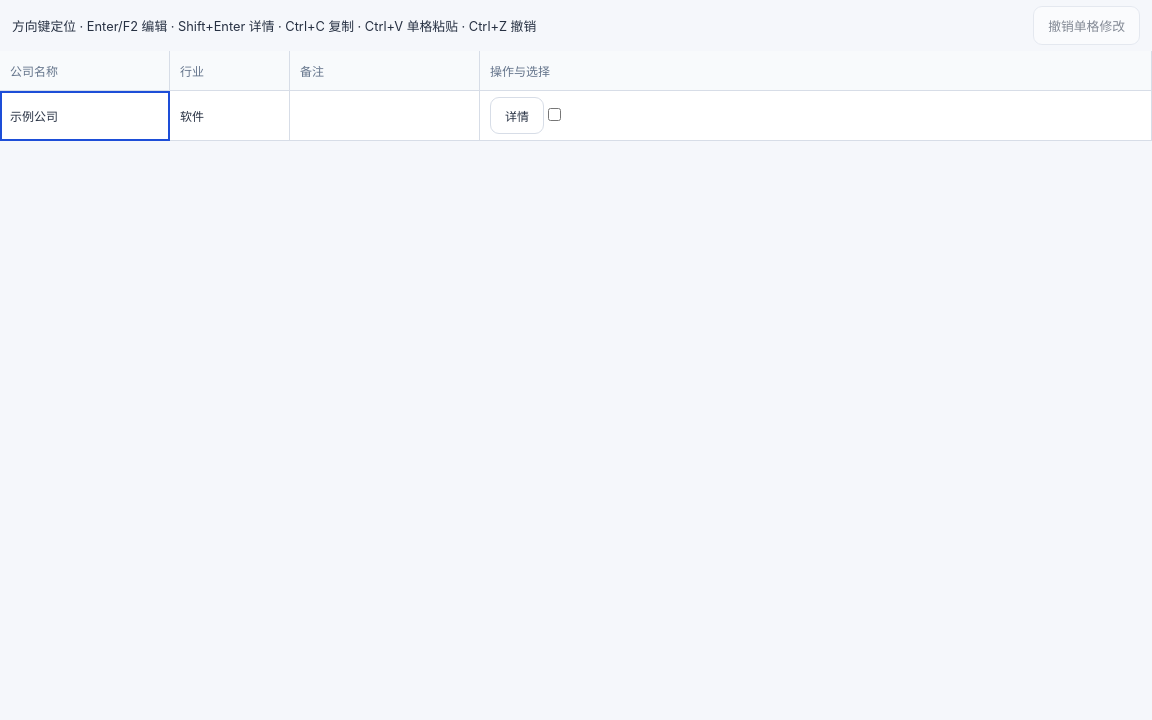
Test: keyboard application grid › saves one cell, restores focus and undoes only with the returned revision
The image size is (1152, 720).
Step 1. Press Enter in the cell named "公司名称 · 示例公司 · 开发工程师", box [0, 91, 170, 141]
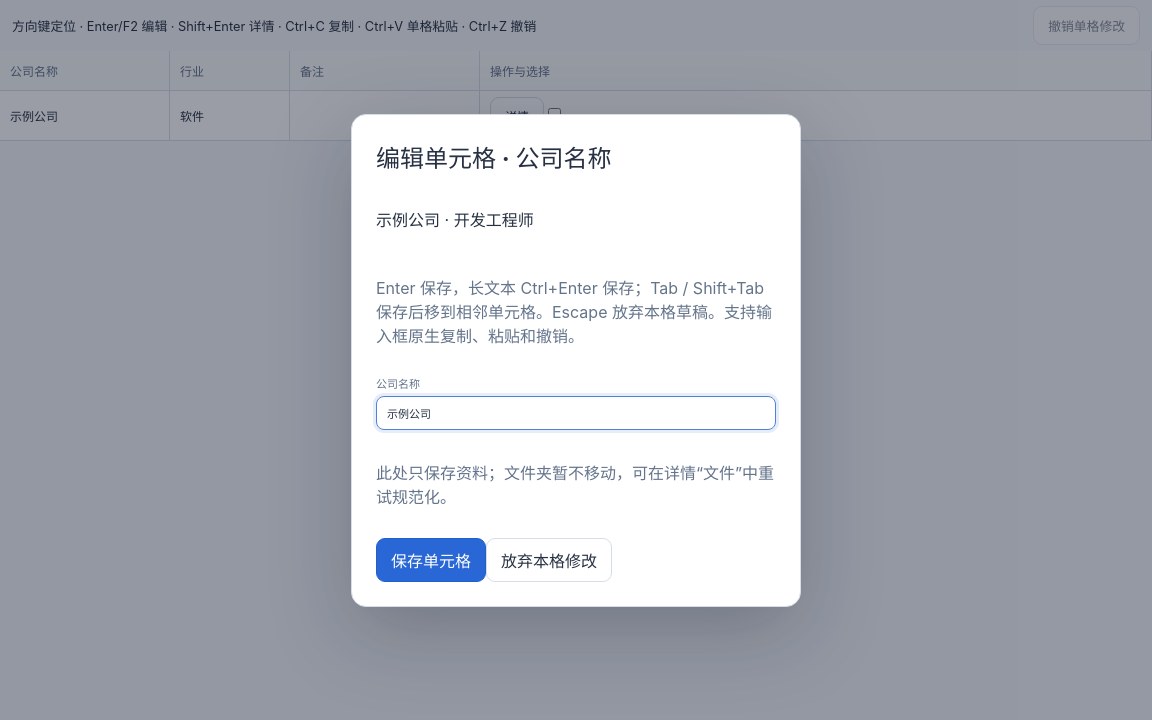
Step 2. Replace the text in the field labelled "公司名称" with "新公司" → point(576, 412), box [376, 396, 776, 430]
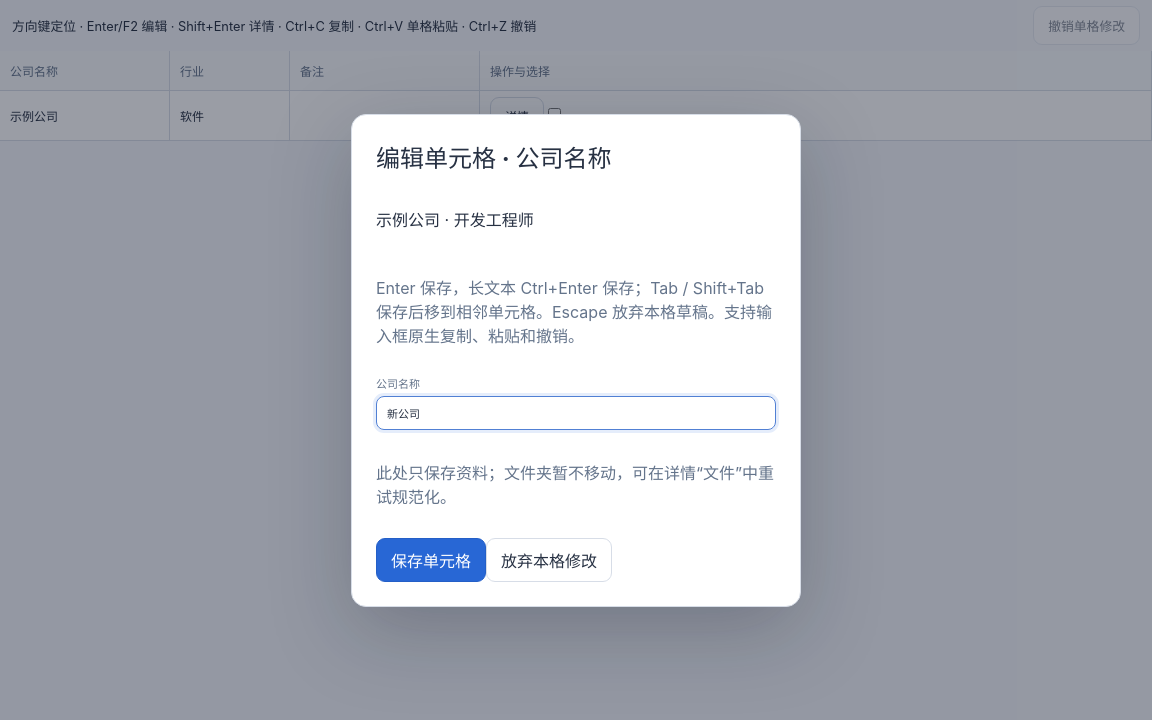
Step 3. Click the button "保存单元格" → point(431, 560), box [376, 538, 486, 582]
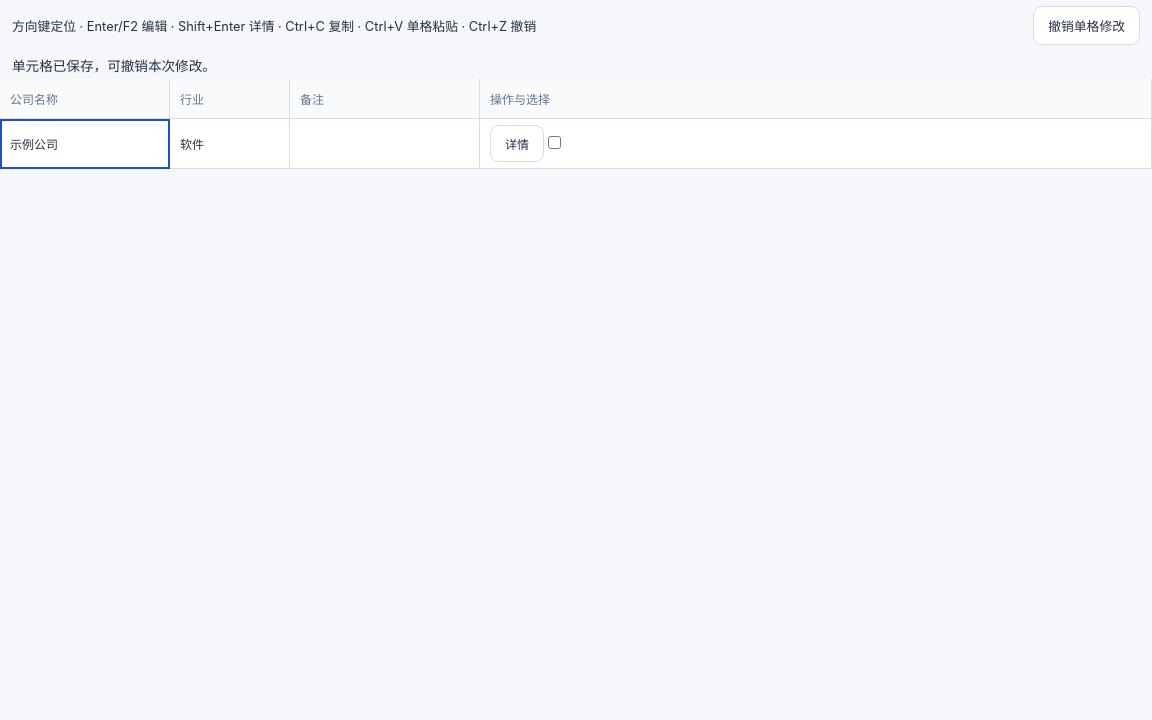
Step 4. Press z in the cell named "公司名称 · 示例公司 · 开发工程师", box [0, 119, 170, 169]
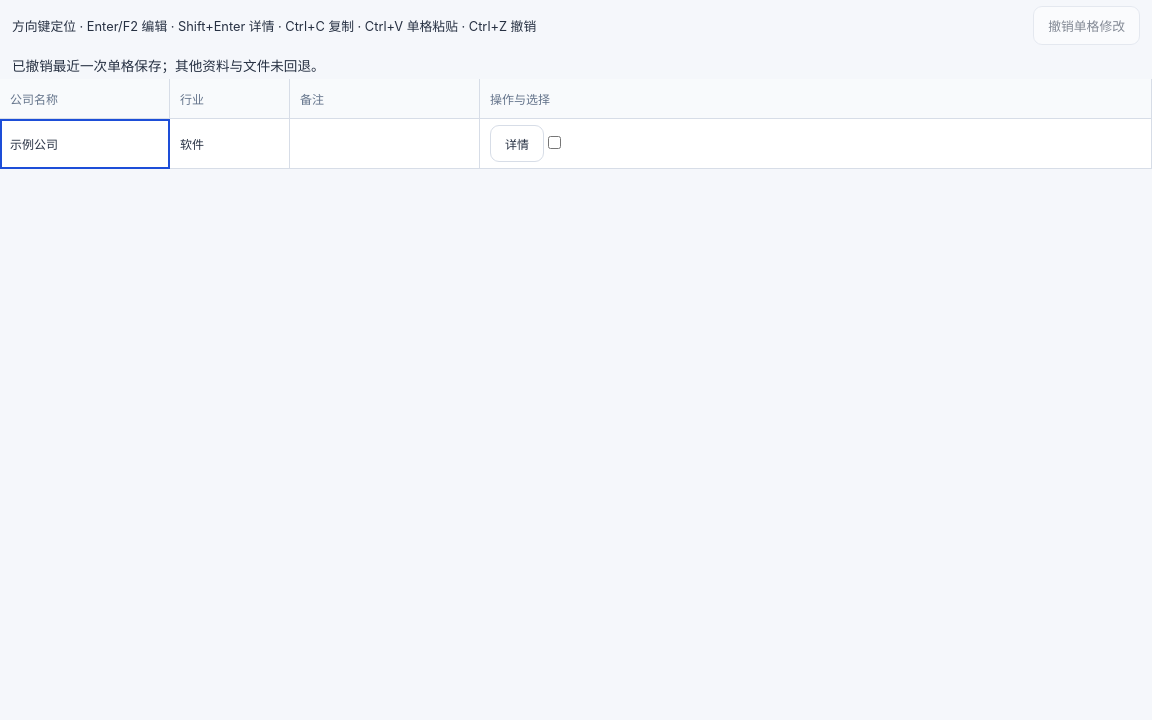
Expected: the text "已撤销最近一次单格保存；其他资料与文件未回退。" is shown, [12, 58, 325, 74]
Expected: the button "撤销单格修改" is disabled, [1033, 6, 1140, 45]
